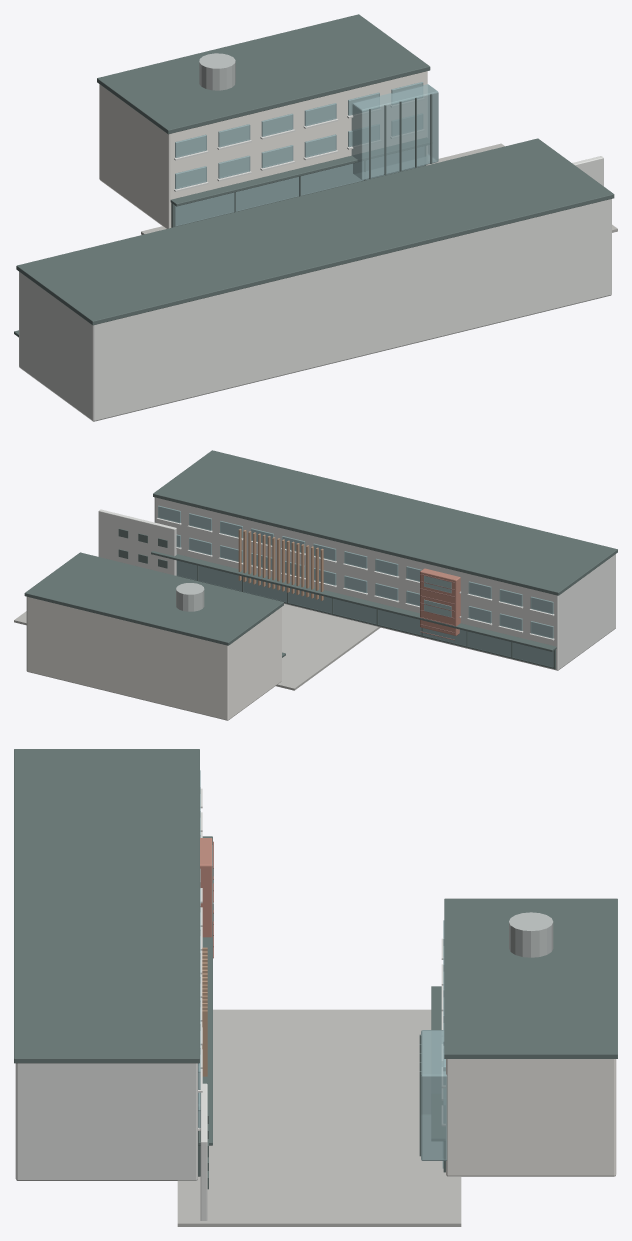
File: xingfuli-east-identity-v2.glb
3 views of the same model, one above another, from view 1: azimuth 30°, elevation 25°; view 2: azimuth 150°, elevation 25°; view 3: azimuth 270°, elevation 25° (orthographic). The views are drawn at different scales.
Parts seen in each view (by area): view 1: xingfuli-east-identity-v2; view 2: xingfuli-east-identity-v2; view 3: xingfuli-east-identity-v2.
Part boxes in pixels (x1=…): xingfuli-east-identity-v2: x1=14, y1=14, x2=617, y2=421; xingfuli-east-identity-v2: x1=14, y1=450, x2=617, y2=720; xingfuli-east-identity-v2: x1=14, y1=749, x2=617, y2=1226.
Size of the model in its own units: 41.09 by 8.38 by 29.83.
